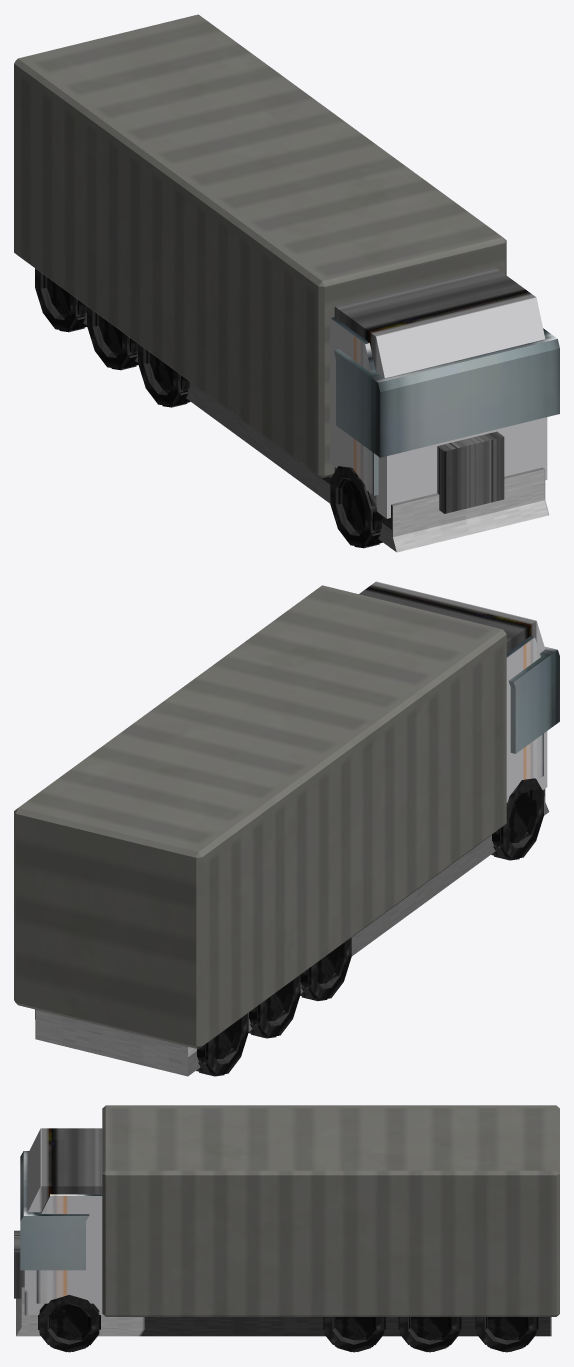
The model's file is vehicle-truck_4.fbx.
The picture shows the model from 3 angles, top to bottom: view 1: azimuth 30°, elevation 25°; view 2: azimuth 150°, elevation 25°; view 3: azimuth 270°, elevation 25°; orthographic projection. The views are drawn at different scales.
Visible parts, largest first — view 1: Cube.076; view 2: Cube.076; view 3: Cube.076.
Boxes of the visible parts, bbox=[...] form: Cube.076: bbox=[14, 14, 559, 552]; Cube.076: bbox=[14, 581, 559, 1076]; Cube.076: bbox=[14, 1105, 559, 1352].
Bounding box in the file's own units: 200 × 251 × 677.
